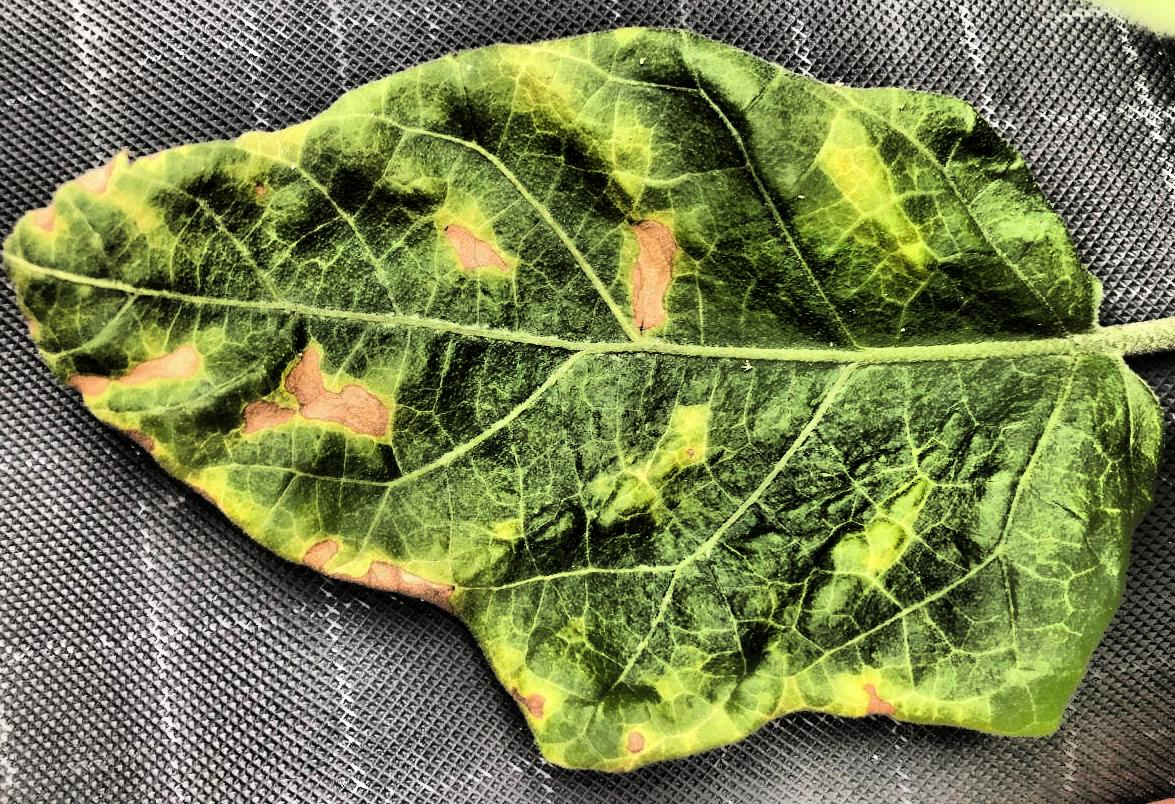Critical Stress: (1, 0, 1175, 804)
